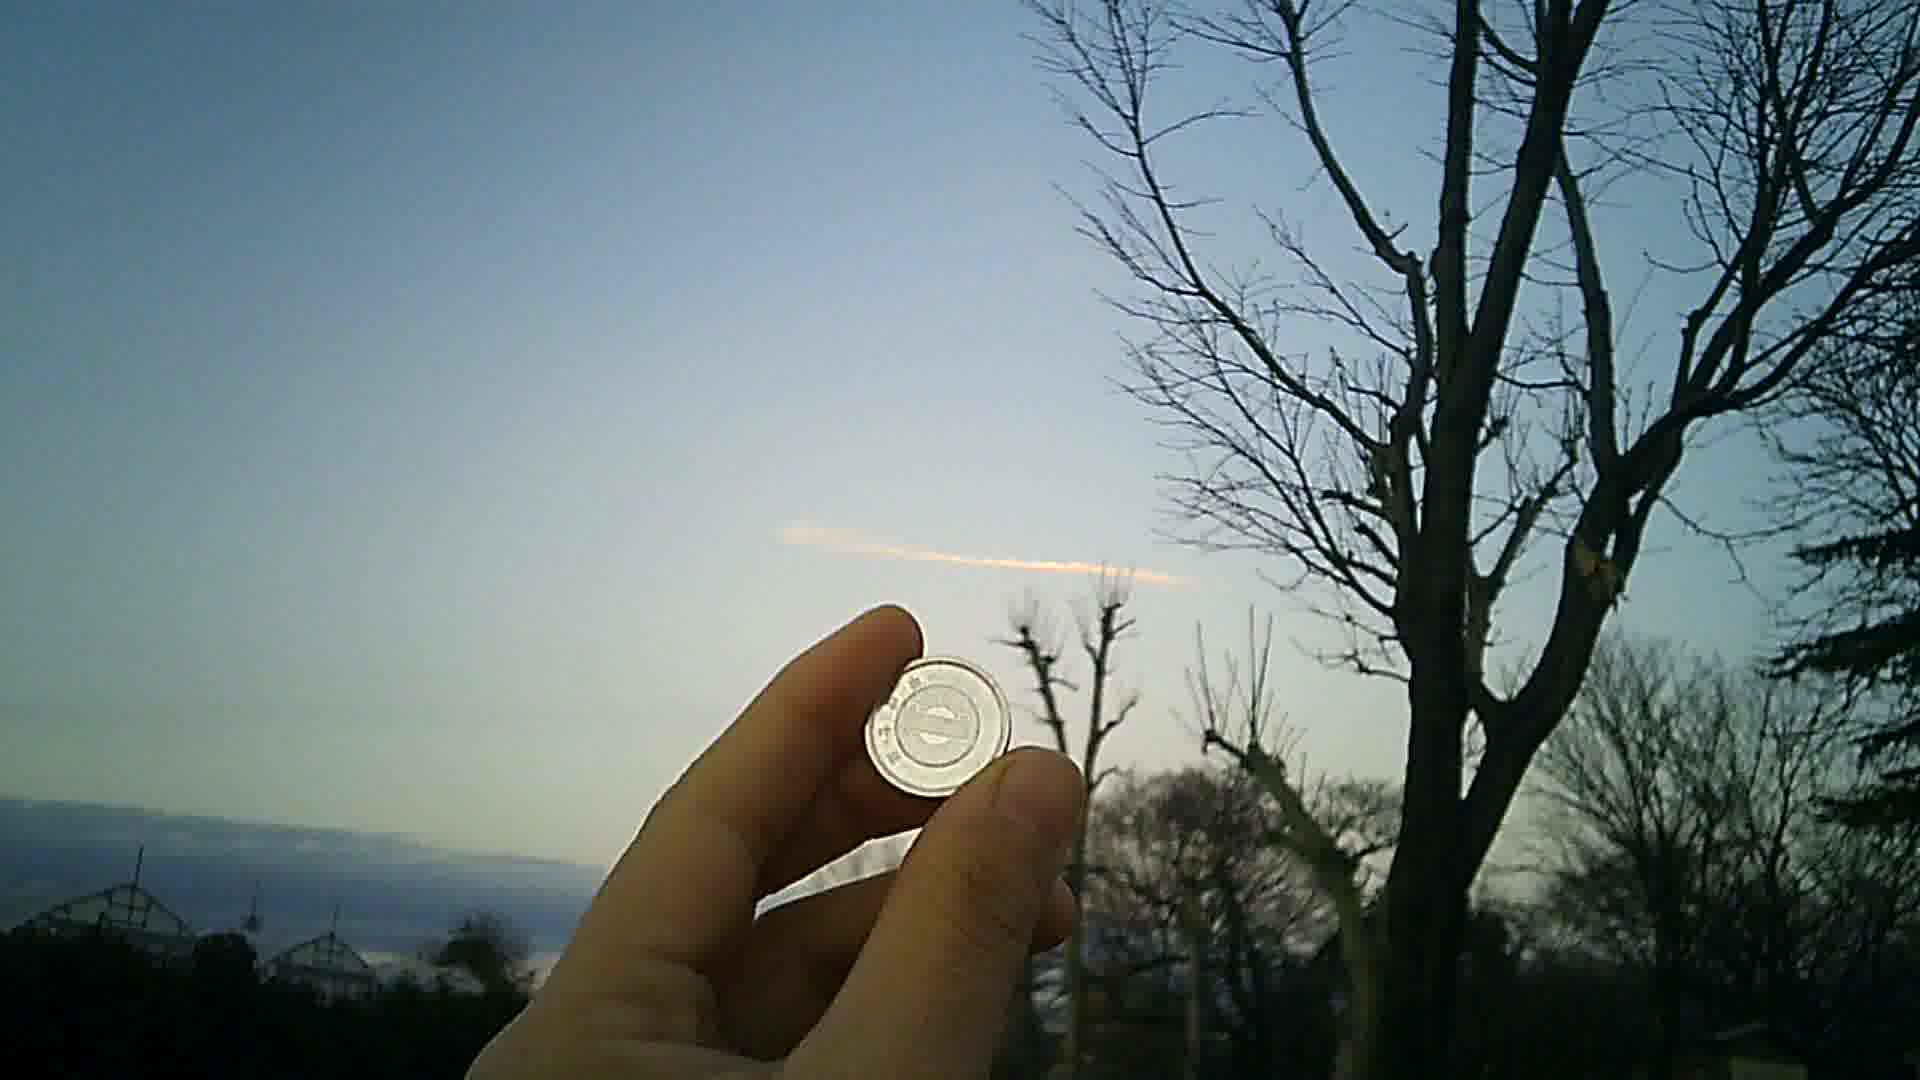1 Yen: (847, 644, 1015, 796)
